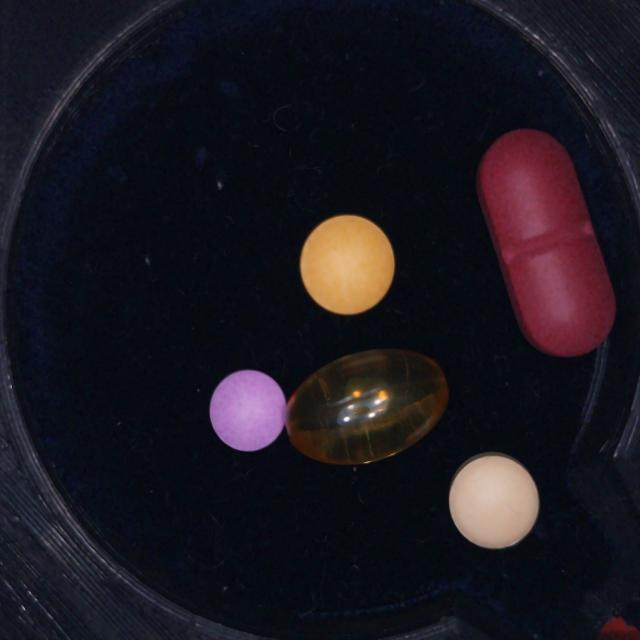Pill: (477, 129, 615, 357), (287, 350, 448, 465), (300, 215, 395, 315), (449, 453, 540, 549), (210, 370, 287, 452)
